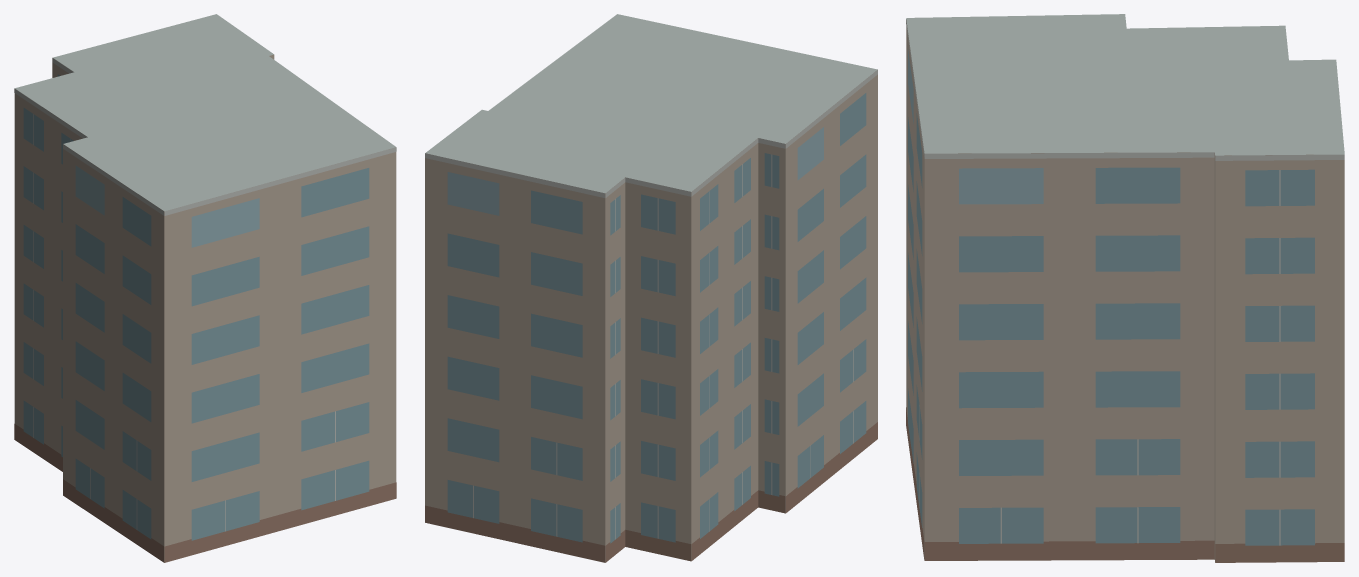
File: survey-upis-32739583.glb
3 views of the same model, side by side, from view 1: azimuth 30°, elevation 25°; view 2: azimuth 150°, elevation 25°; view 3: azimuth 270°, elevation 25° (orthographic). The views are drawn at different scales.
Parts seen in each view (by area): view 1: survey-upis-32739583.tmp; view 2: survey-upis-32739583.tmp; view 3: survey-upis-32739583.tmp.
Boxes of the visible parts, box(x1,y1,x2,y2) form: survey-upis-32739583.tmp: box(14, 14, 396, 562); survey-upis-32739583.tmp: box(425, 14, 877, 562); survey-upis-32739583.tmp: box(906, 14, 1344, 562).
Bounding box in the file's own units: 13.64 × 18.3 × 17.87.
